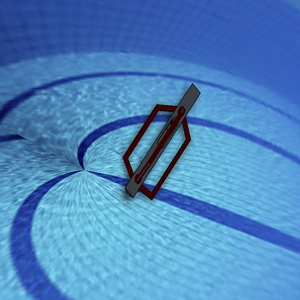submarine: (101, 62, 221, 220)
